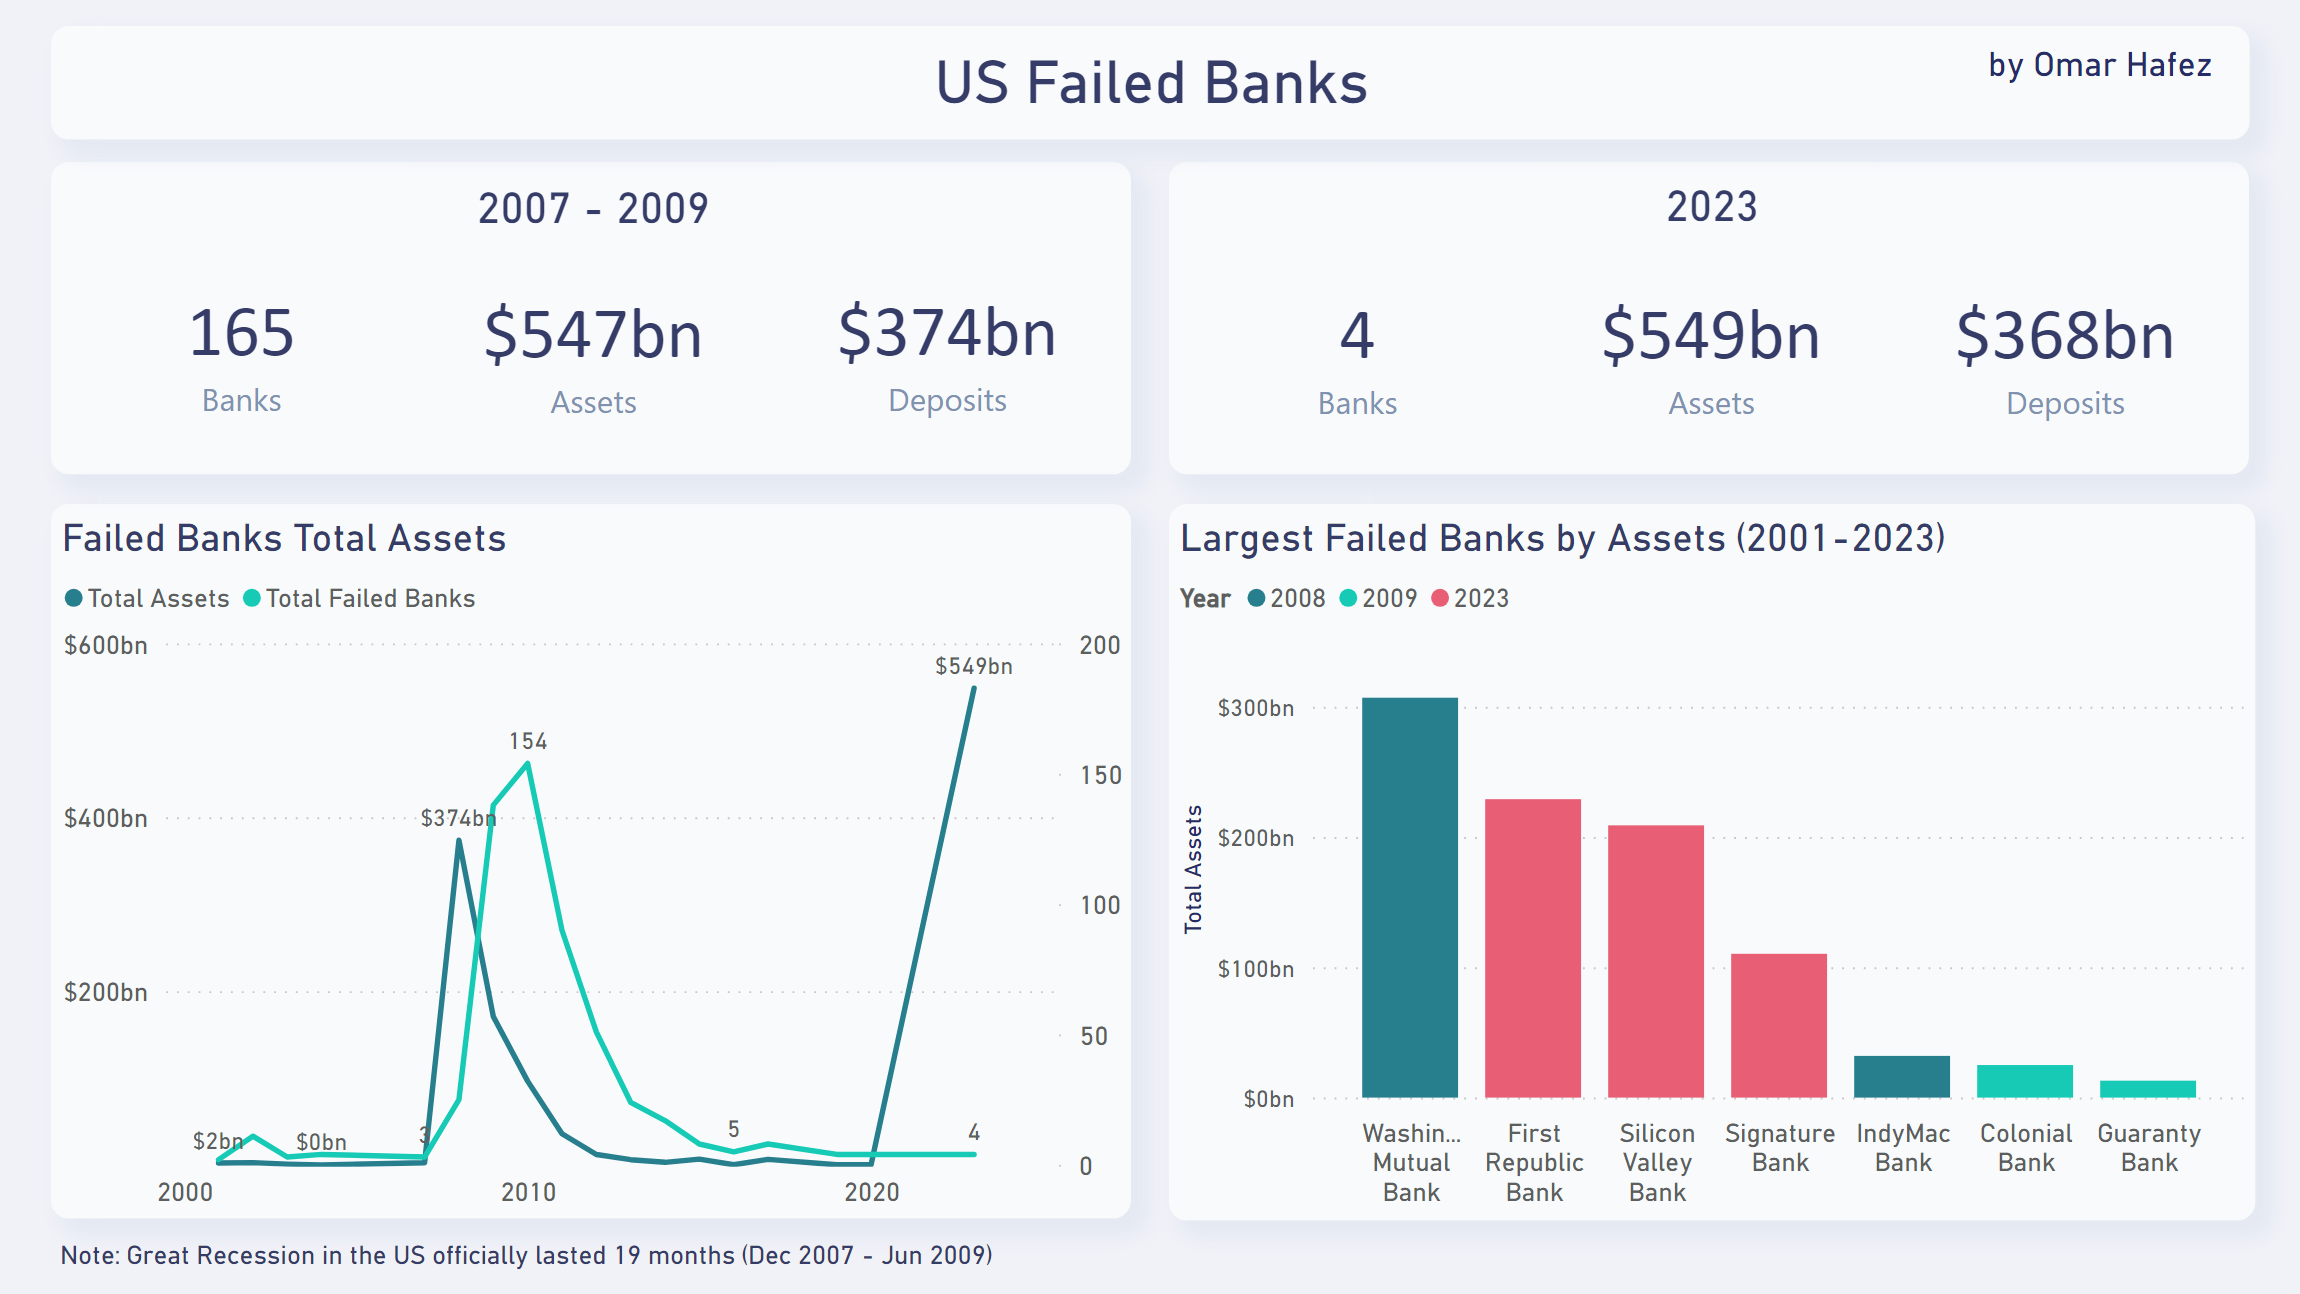

The page's visual inventory and layout, read from the dashboard file:
{"tool":"powerbi","page":{"name":"US Failed Banks","canvas":[1280,720],"ordinal":0},"visuals":[{"type":"shape","box":[30,91.4,600,173.6],"z":0,"group":"g2"},{"type":"shape","box":[651.4,91.4,600,173.3],"z":0,"group":"g1"},{"type":"lineChart","title":"Failed Banks Total Assets","fields":{"Category":["Date Table.Year"],"Y":["Sum(BankFailures.Approx. Asset)"],"Y2":["Count(BankFailures.Bank Name)"]},"box":[30,281.4,600,397.1],"z":0},{"type":"textbox","title":"Title","box":[30,15.7,1221.4,62.9],"z":1000,"group":"g3"},{"type":"group","id":"g1","title":"Group 1","box":[651.4,91.4,600,174.3],"z":1000},{"type":"textbox","box":[221.6,93.1,218.5,45.1],"z":1000,"group":"g2"},{"type":"textbox","box":[853.6,93.1,197.2,45],"z":1000,"group":"g1"},{"type":"group","id":"g2","title":"Group 2","box":[30,91.4,600,174.3],"z":2000},{"type":"card","title":"Assets","fields":{"Values":["Sum(BankFailures.Approx. Asset (Millions))"]},"box":[242.9,143,174.2,103.2],"z":2000,"group":"g2"},{"type":"card","title":"Assets","fields":{"Values":["Sum(BankFailures.Approx. Asset (Millions))"]},"box":[864.3,144.1,174.2,102.3],"z":2000,"group":"g1"},{"type":"card","title":"Banks","fields":{"Values":["Count(BankFailures.Bank Name)"]},"box":[47.7,141.5,174.2,103.2],"z":3000,"group":"g2"},{"type":"card","title":"Banks","fields":{"Values":["Count(BankFailures.Bank Name)"]},"box":[667.5,144.1,174.2,102.3],"z":3000,"group":"g1"},{"type":"columnChart","title":"Largest Failed Banks by Assets (2001-2023)","fields":{"Category":["BankFailures.Bank Name"],"Y":["Sum(BankFailures.Approx. Asset)"],"Series":["Date Table.Year"]},"box":[651.1,281.1,603.3,397.8],"z":3000},{"type":"group","id":"g3","title":"Group 3","box":[30,15.7,1221.4,63.3],"z":4000},{"type":"card","title":"Deposits","fields":{"Values":["Sum(BankFailures.Approx. Deposit (Millions))"]},"box":[439.7,141.5,174.2,103.2],"z":4000,"group":"g2"},{"type":"card","title":"Deposits","fields":{"Values":["Sum(BankFailures.Approx. Deposit (Millions))"]},"box":[1061.1,144.1,174.2,102.3],"z":4000,"group":"g1"},{"type":"textbox","box":[1101,16,150,63],"z":4001,"group":"g3"},{"type":"textbox","box":[30,678.6,657.1,41.4],"z":5000}]}

Visuals, with their boxes in screenshot pixels (x1, y1, x2, y2), scaled from the page's 1280x720 canvas onto the 2300x1294 screenshot:
shape: 54,164,1132,476
shape: 1170,164,2249,476
"Failed Banks Total Assets" lineChart: 54,506,1132,1219
"Title" textbox: 54,28,2249,141
"Group 1" group: 1170,164,2249,478
textbox: 398,167,791,248
textbox: 1534,167,1888,248
"Group 2" group: 54,164,1132,478
"Assets" card: 436,257,749,442
"Assets" card: 1553,259,1866,443
"Banks" card: 86,254,399,440
"Banks" card: 1199,259,1512,443
"Largest Failed Banks by Assets (2001-2023)" columnChart: 1170,505,2254,1220
"Group 3" group: 54,28,2249,142
"Deposits" card: 790,254,1103,440
"Deposits" card: 1907,259,2220,443
textbox: 1978,29,2248,142
textbox: 54,1220,1235,1293
